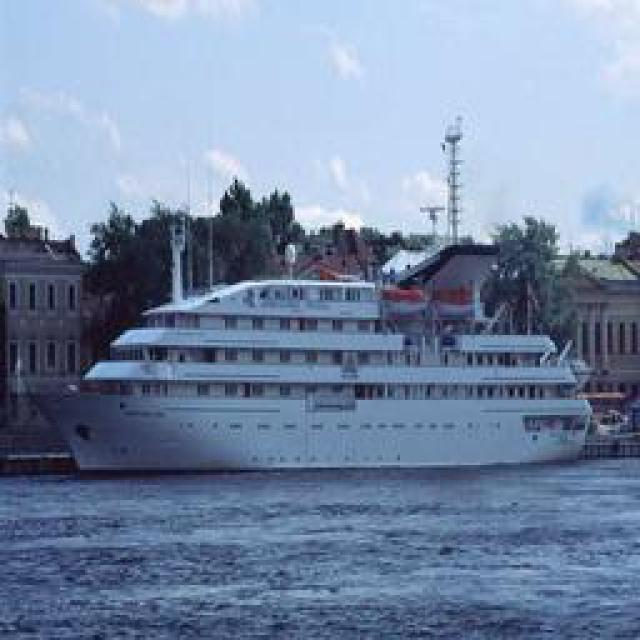Ship: (47, 268, 600, 473)
